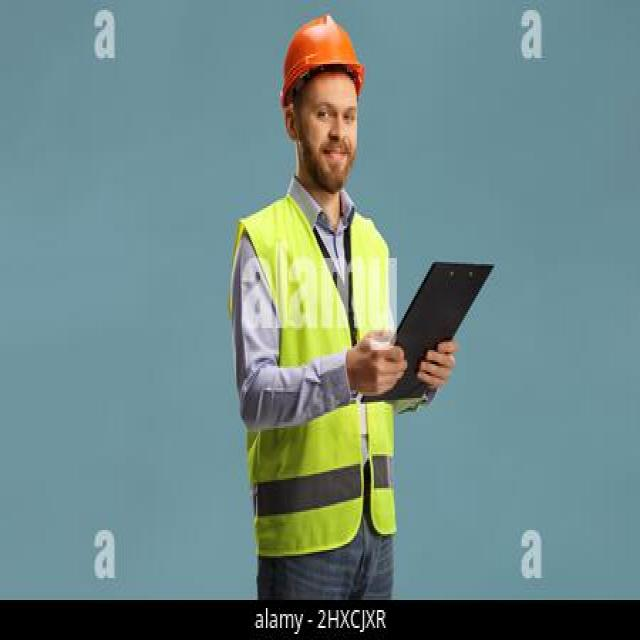Reflective-Jacket: (232, 194, 405, 564)
Safety-Helmet: (277, 10, 367, 98)
